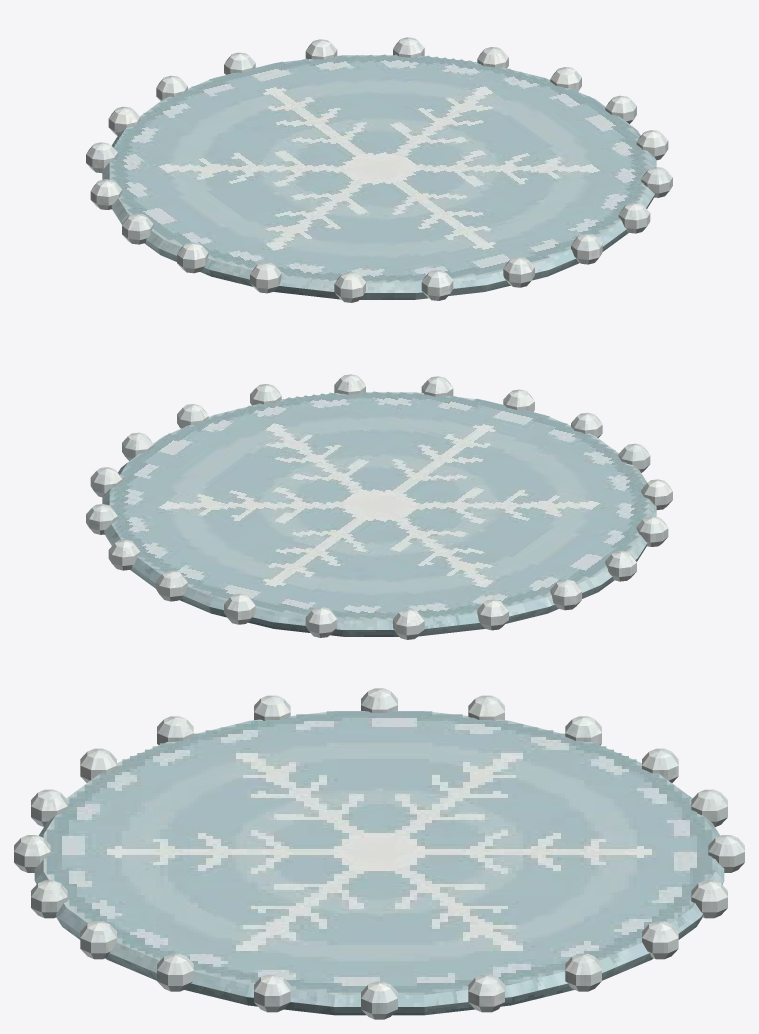
Rendered from snowflake_rug.glb.
The picture shows the model from 3 angles, top to bottom: view 1: azimuth 30°, elevation 25°; view 2: azimuth 150°, elevation 25°; view 3: azimuth 270°, elevation 25°; orthographic projection. The views are drawn at different scales.
Visible parts, largest first — view 1: static; view 2: static; view 3: static.
Part boxes in pixels (x1,y1,x2,y2): static: (86, 37, 672, 302); static: (86, 374, 672, 639); static: (14, 688, 744, 1019).
Bounding box in the file's own units: 2.01 × 0.1063 × 2.01.
Materials: 2 (2 with a texture image).
